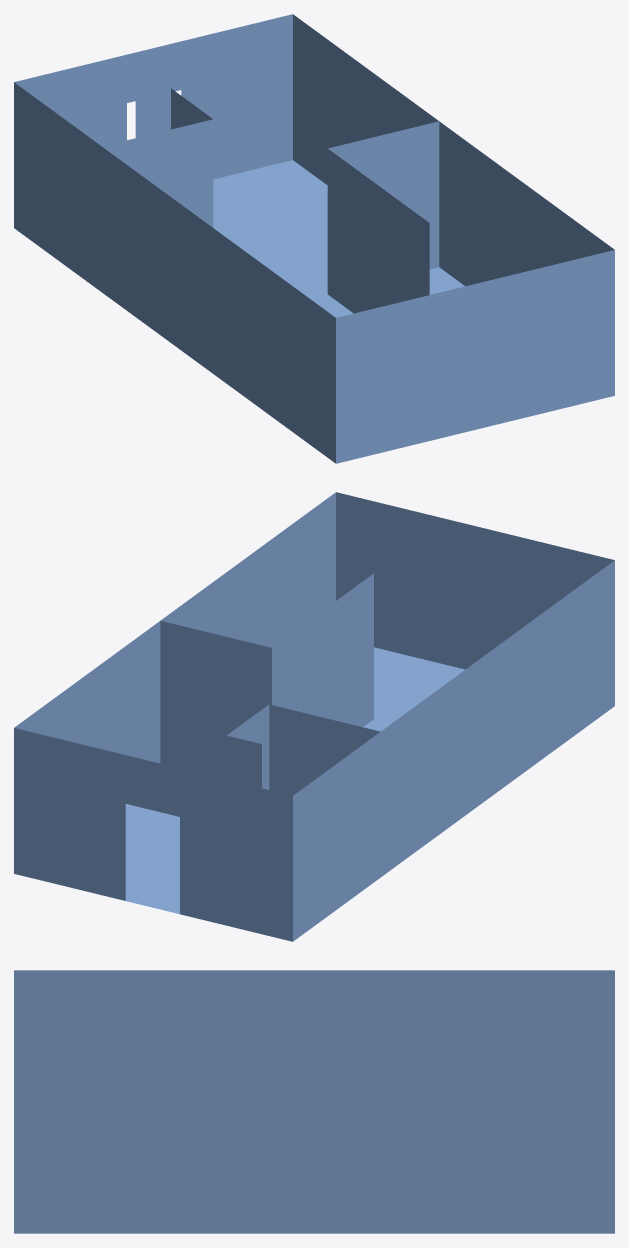
File: house.fbx
3 renders of one model, top to bottom at view 1: azimuth 30°, elevation 25°; view 2: azimuth 150°, elevation 25°; view 3: azimuth 270°, elevation 25°, orthographic. The views are drawn at different scales.
Parts seen in each view (by area): view 1: Cube; view 2: Cube; view 3: Cube.
Boxes of the visible parts, x1,y1,x2,y2 form: Cube: (14, 14, 614, 463); Cube: (14, 492, 614, 941); Cube: (14, 970, 614, 1233).
Bounding box in the file's own units: 3000 × 1500 × 6000.
